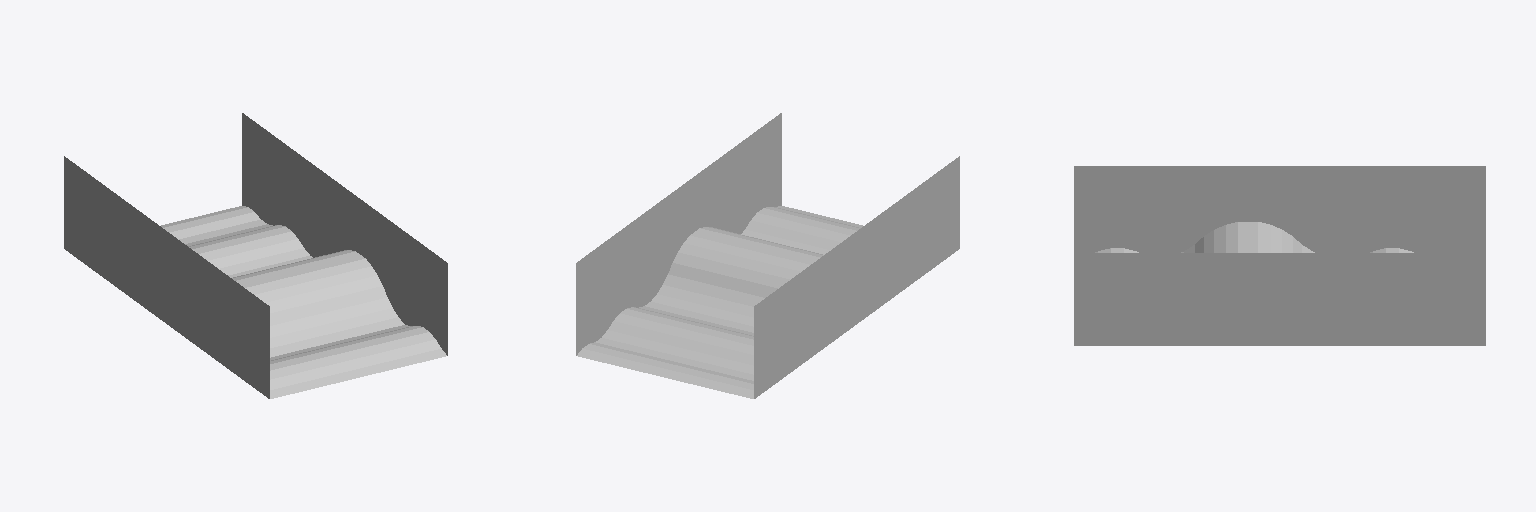
Rendered from Room_SimpleRamps_1.obj.
3 views of the same model, side by side, from view 1: azimuth 30°, elevation 25°; view 2: azimuth 150°, elevation 25°; view 3: azimuth 270°, elevation 25° (orthographic).
Visible parts, largest first — view 1: Factory_Wall_16x8, Factory_Floor_8x1, Factory_Floor_8x1.54x1; view 2: Factory_Wall_16x8, Factory_Floor_8x1, Factory_Floor_8x1.54x1; view 3: Factory_Wall_16x8, Factory_Floor_8x1, Factory_Floor_8x1.54x1.
Boxes of the visible parts, <box> form: Factory_Wall_16x8: <box>64,113,447,398</box>; Factory_Floor_8x1: <box>161,206,446,398</box>; Factory_Floor_8x1.54x1: <box>236,251,365,287</box>; Factory_Wall_16x8: <box>576,113,959,398</box>; Factory_Floor_8x1: <box>577,206,862,398</box>; Factory_Floor_8x1.54x1: <box>690,228,819,264</box>; Factory_Wall_16x8: <box>1074,166,1485,345</box>; Factory_Floor_8x1: <box>1095,222,1413,252</box>; Factory_Floor_8x1.54x1: <box>1238,222,1257,252</box>.
Bounding box in the file's own units: 16 × 8 × 32.